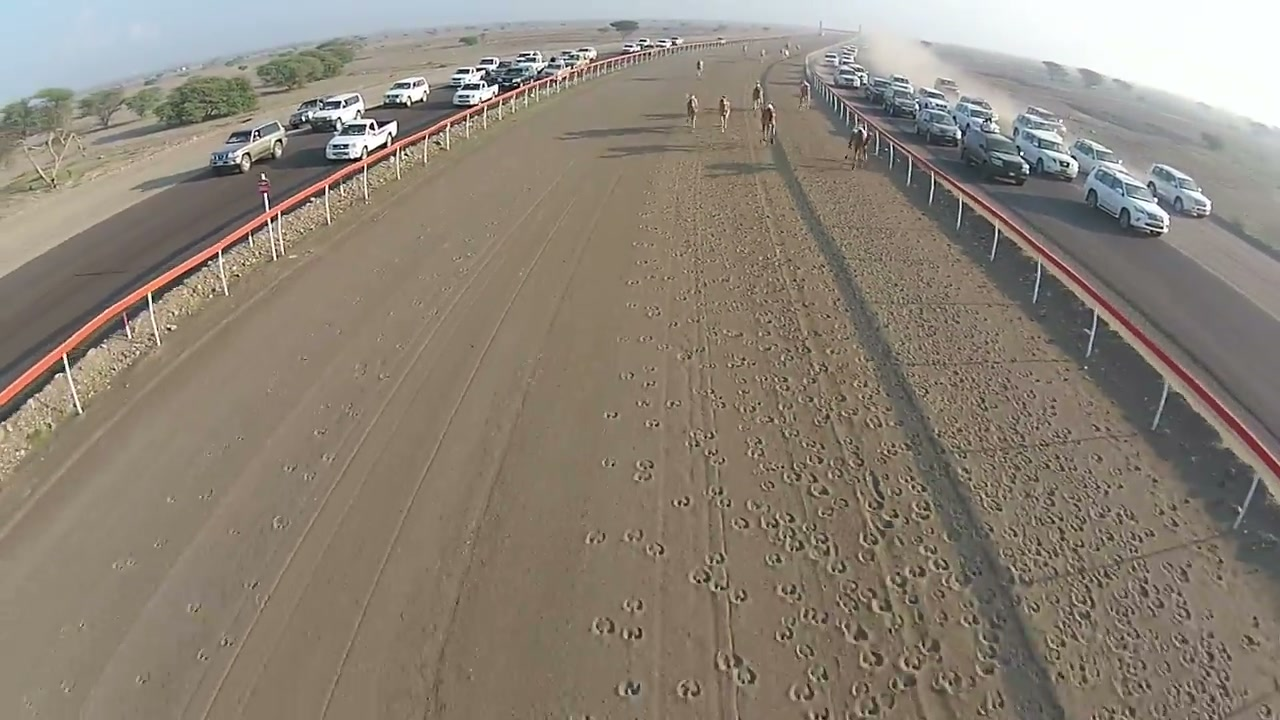animal_foot_print: (689, 237, 935, 686), (893, 535, 986, 632), (715, 651, 758, 687), (847, 686, 887, 719), (895, 650, 938, 675), (930, 669, 964, 694), (805, 537, 833, 566), (798, 606, 830, 627), (842, 621, 871, 644), (715, 650, 745, 672), (858, 647, 886, 670), (888, 672, 918, 692), (916, 634, 942, 657), (707, 568, 730, 594), (732, 664, 758, 687), (776, 582, 803, 603), (675, 679, 702, 699), (788, 683, 816, 702), (591, 616, 615, 636), (702, 447, 727, 466), (616, 679, 641, 698), (974, 660, 999, 677), (689, 566, 711, 585), (826, 557, 848, 576), (759, 514, 782, 532), (622, 597, 645, 614), (808, 482, 831, 499), (619, 626, 643, 642), (774, 626, 795, 644), (806, 706, 834, 719), (855, 548, 876, 565), (794, 643, 815, 660), (645, 542, 665, 559), (112, 556, 136, 570), (746, 498, 768, 513), (774, 511, 797, 525), (632, 468, 653, 483), (623, 528, 644, 543), (729, 588, 748, 604), (764, 552, 784, 567), (730, 516, 750, 531), (712, 496, 733, 510), (705, 551, 726, 565), (585, 530, 606, 544), (780, 614, 798, 630), (704, 485, 725, 498), (759, 479, 777, 493), (271, 515, 289, 529), (671, 496, 691, 508), (59, 679, 75, 694), (197, 488, 215, 500), (635, 459, 654, 470), (646, 305, 661, 318), (219, 634, 234, 647), (665, 399, 682, 410), (242, 578, 259, 589), (196, 648, 210, 661), (135, 672, 149, 685), (186, 602, 201, 614), (301, 470, 316, 482), (321, 452, 336, 464), (282, 462, 298, 473), (635, 397, 651, 408), (601, 457, 616, 468), (645, 418, 660, 428), (313, 427, 327, 437), (619, 371, 634, 380), (603, 411, 618, 419), (625, 301, 638, 309), (165, 495, 176, 503)
